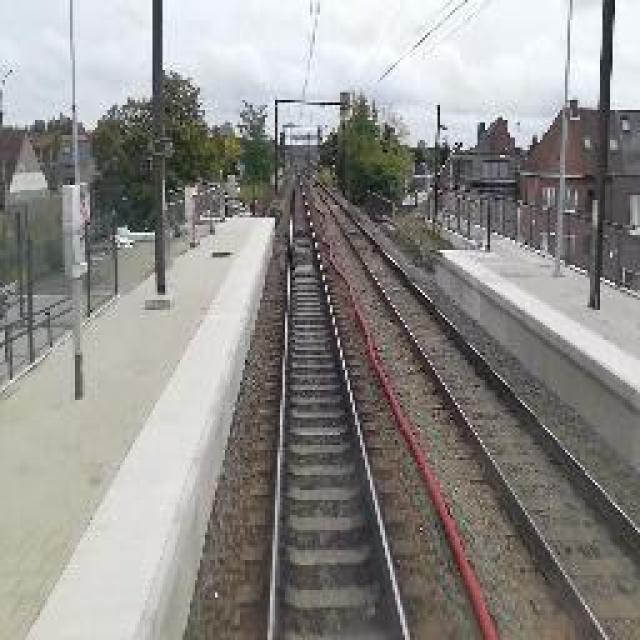rail: (233, 162, 438, 640)
